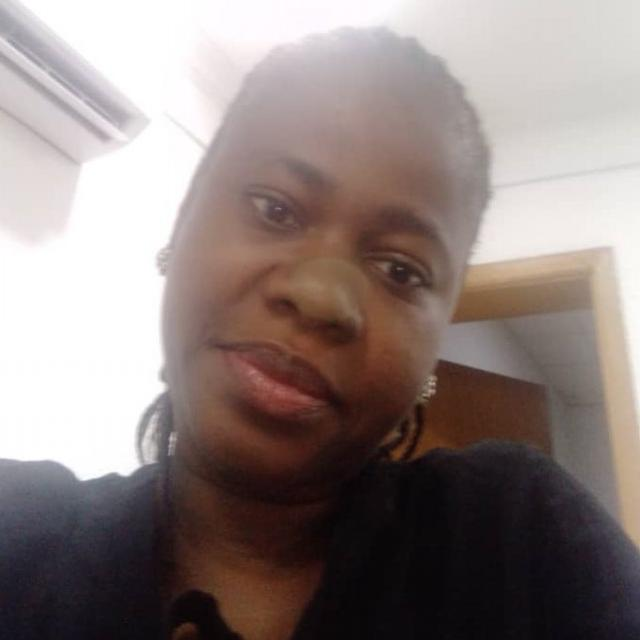happy: (151, 27, 475, 492)
